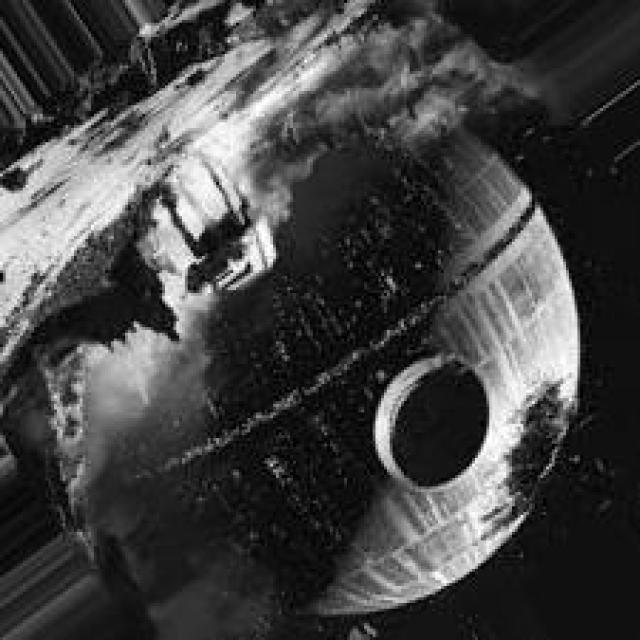deathstar: (80, 104, 584, 620)
